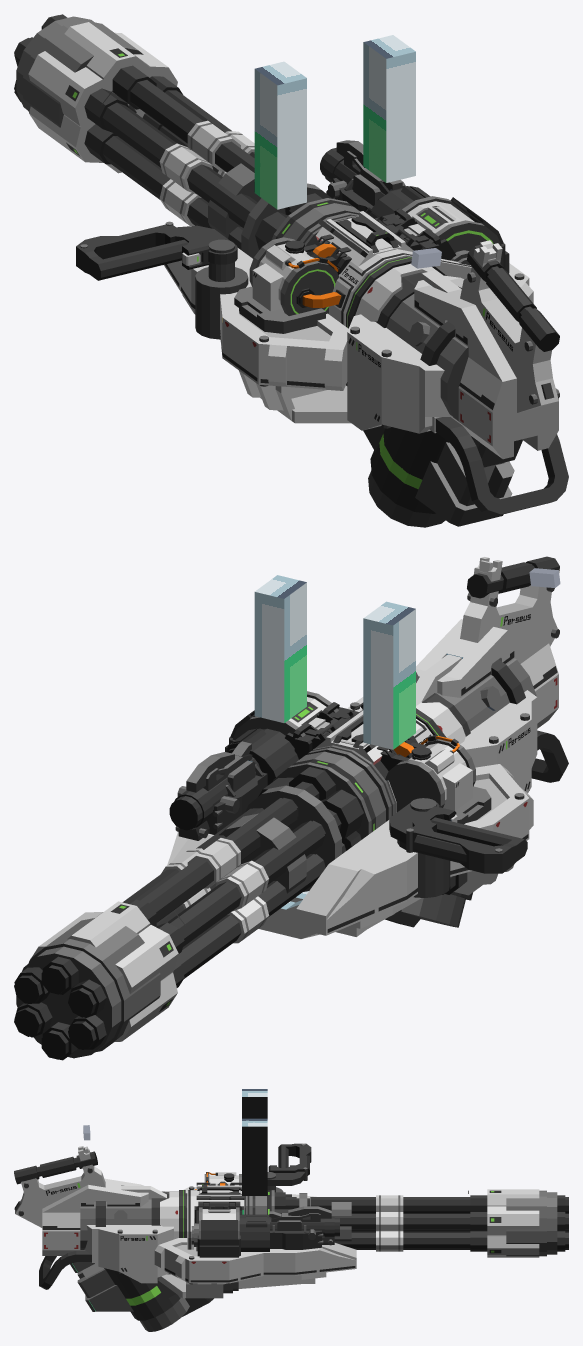
Rendered from doom.gltf.
3 renders of one model, top to bottom at view 1: azimuth 30°, elevation 25°; view 2: azimuth 150°, elevation 25°; view 3: azimuth 270°, elevation 25°, orthographic. The views are drawn at different scales.
Parts seen in each view (by area): view 1: cube (×27), octagon (×15), hexadecagon (×8); view 2: cube (×23), octagon (×15), hexadecagon (×8); view 3: cube (×28), octagon (×14), hexadecagon (×11).
Part boxes in pixels (x1,y1,x2,y2): cube (×27): [222, 35, 568, 522]; octagon (×15): [14, 15, 255, 277]; hexadecagon (×8): [23, 25, 468, 511]; cube (×23): [254, 575, 558, 935]; octagon (×15): [19, 798, 324, 1048]; hexadecagon (×8): [23, 660, 529, 1058]; cube (×28): [15, 1089, 356, 1311]; octagon (×14): [310, 1194, 568, 1254]; hexadecagon (×11): [80, 1196, 546, 1320].
Bounding box in the file's own units: 2.2 × 2.38 × 5.44.
Materials: 2 (1 with a texture image).
